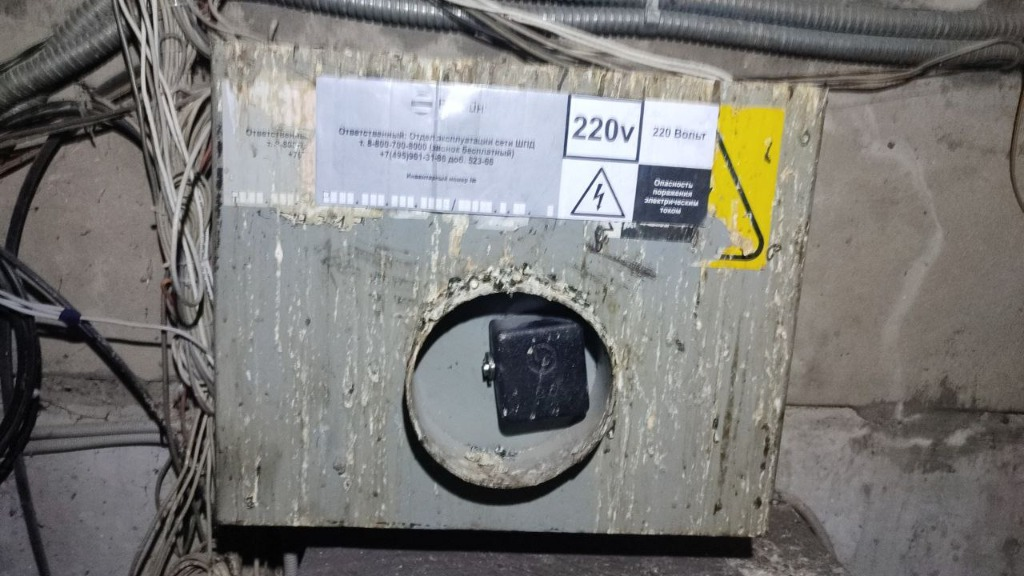shta-3: (206, 31, 831, 543)
